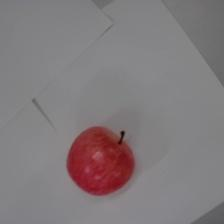red: (65, 123, 136, 196)
